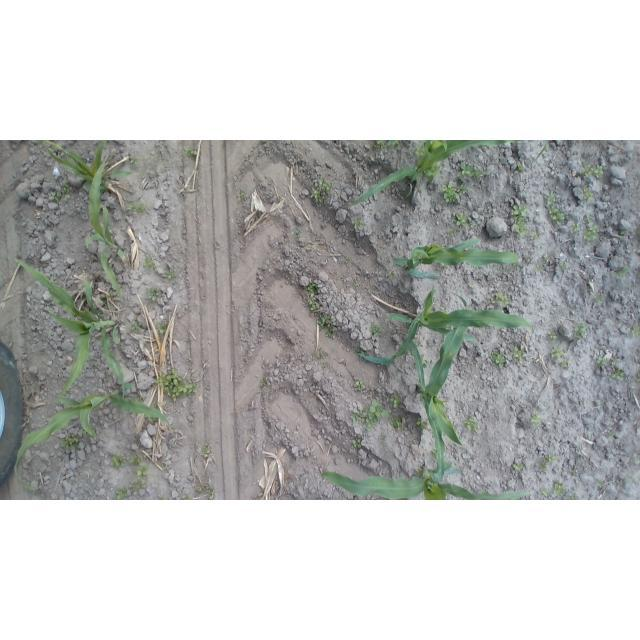Maize: (15, 383, 174, 491), (13, 257, 127, 399), (406, 291, 481, 482), (357, 285, 534, 365), (347, 141, 514, 207), (319, 461, 536, 500), (85, 161, 128, 306), (390, 236, 521, 281), (42, 140, 134, 192)
Weeds: (502, 254, 566, 279), (154, 367, 198, 402), (350, 398, 391, 431), (115, 466, 150, 498), (161, 487, 216, 500), (572, 216, 600, 241), (543, 192, 566, 222), (511, 204, 529, 236), (456, 161, 485, 180), (311, 179, 333, 204), (441, 182, 468, 202), (60, 429, 81, 452), (317, 314, 335, 339), (537, 453, 558, 474), (550, 344, 568, 368), (307, 283, 320, 312), (48, 184, 71, 200), (582, 164, 605, 179), (455, 212, 475, 228), (127, 202, 150, 215), (100, 291, 116, 309), (573, 322, 589, 338), (490, 293, 508, 307), (464, 416, 478, 433), (492, 352, 508, 366), (368, 323, 382, 339), (530, 411, 543, 428), (110, 455, 126, 468), (554, 483, 567, 497), (374, 141, 400, 148), (183, 146, 197, 159), (143, 256, 156, 270), (236, 188, 247, 204), (616, 267, 629, 280), (513, 347, 525, 361), (390, 393, 401, 408), (128, 455, 143, 466), (391, 418, 403, 431), (353, 218, 365, 231), (147, 287, 158, 301), (513, 161, 524, 175), (583, 184, 593, 199), (416, 417, 427, 430), (352, 381, 364, 392), (163, 269, 176, 279), (597, 358, 608, 369), (130, 322, 143, 331), (612, 370, 625, 379), (351, 439, 361, 450), (632, 324, 640, 337), (513, 463, 524, 472), (158, 322, 167, 333), (128, 156, 139, 165), (380, 435, 389, 445), (386, 270, 395, 279), (609, 431, 617, 441), (620, 229, 633, 235), (204, 444, 211, 455), (549, 331, 557, 340), (532, 230, 541, 238), (259, 381, 266, 390), (597, 294, 604, 303), (567, 495, 581, 499), (610, 359, 618, 365), (295, 228, 300, 236), (344, 257, 350, 263)
